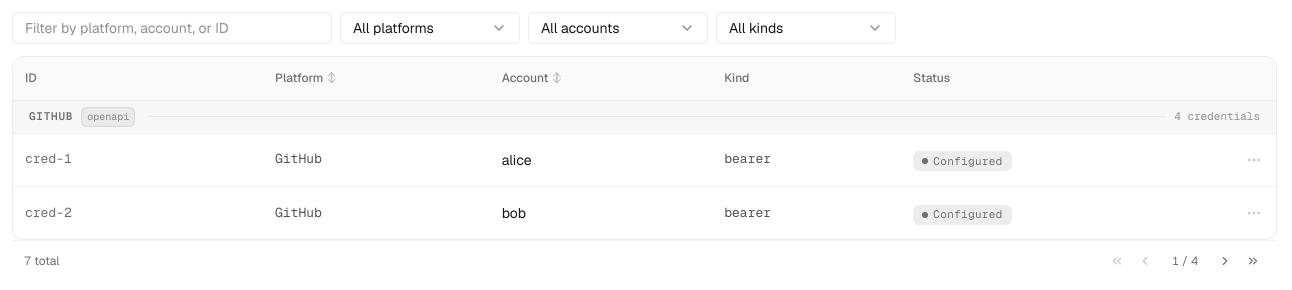
it: CredentialsPage › paginates: page 2 shows the next slice and page 1's rows are gone (pageSize=2, 7 rows)
This screenshot has width=1292, height=290.
Expected: the text "cred-1" is shown, top-left (13, 133), bottom-right (263, 186)
Expected: the text "cred-2" is shown, top-left (13, 186), bottom-right (263, 239)
Click the button named "Next page".
click(1225, 261)  # box top-left (1213, 249), bottom-right (1237, 273)
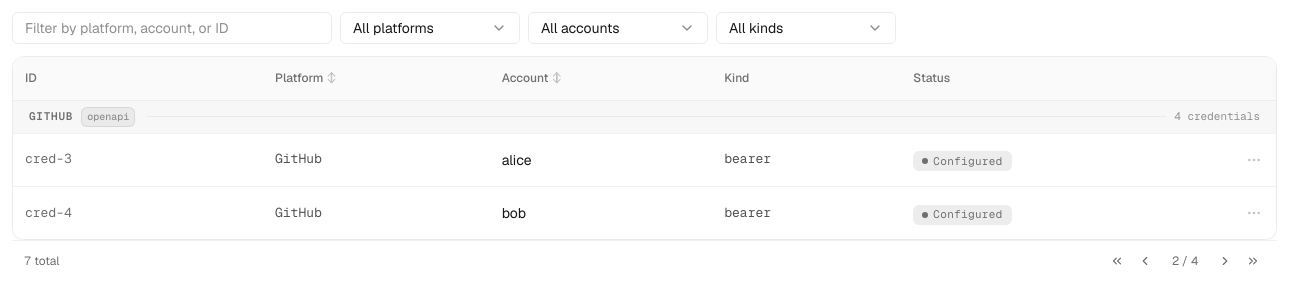
Now the text "cred-3" is shown, box top-left (13, 133), bottom-right (263, 186)
Now the text "cred-4" is shown, box top-left (13, 186), bottom-right (263, 239)
Now the text "cred-1" is gone
